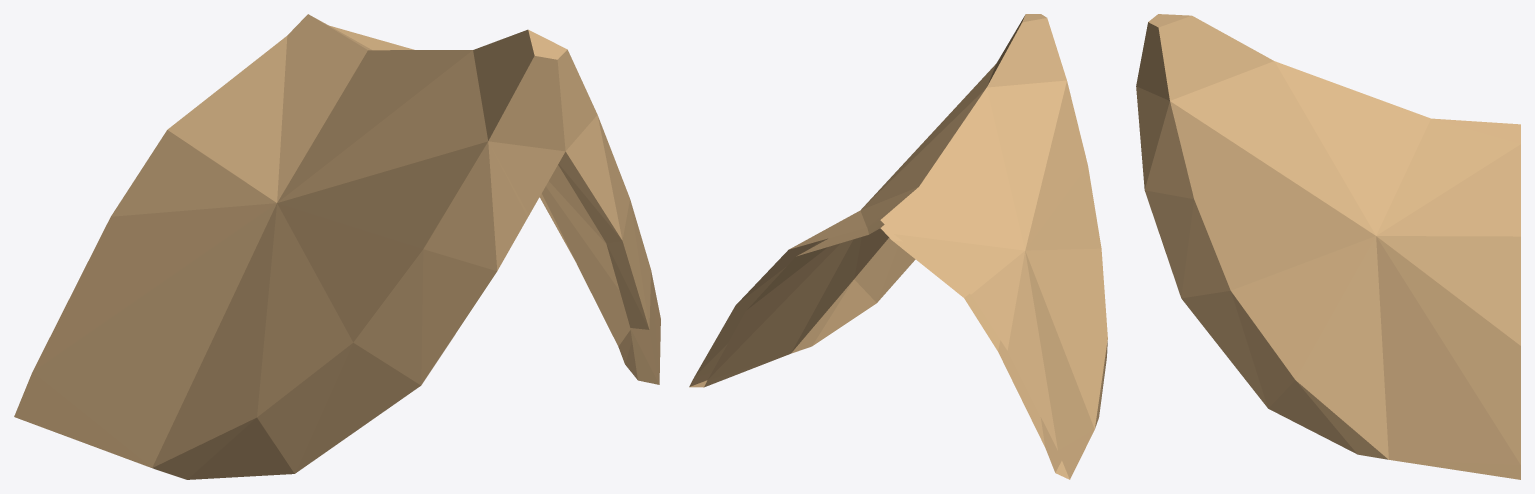
Rendered from Prop_Tent_Entrance_Cloth_Hide_01.FBX.
3 renders of one model, left to right at view 1: azimuth 30°, elevation 25°; view 2: azimuth 150°, elevation 25°; view 3: azimuth 270°, elevation 25°, orthographic. The views are drawn at different scales.
Parts seen in each view (by area): view 1: Prop_Tent_Entrance_Cloth_Hide_01; view 2: Prop_Tent_Entrance_Cloth_Hide_01; view 3: Prop_Tent_Entrance_Cloth_Hide_01.
Boxes of the visible parts, <box> form: Prop_Tent_Entrance_Cloth_Hide_01: <box>14,14,660,479</box>; Prop_Tent_Entrance_Cloth_Hide_01: <box>689,14,1107,479</box>; Prop_Tent_Entrance_Cloth_Hide_01: <box>1136,14,1520,479</box>.
Size of the model in its own units: 5925 by 4572 by 4476.
